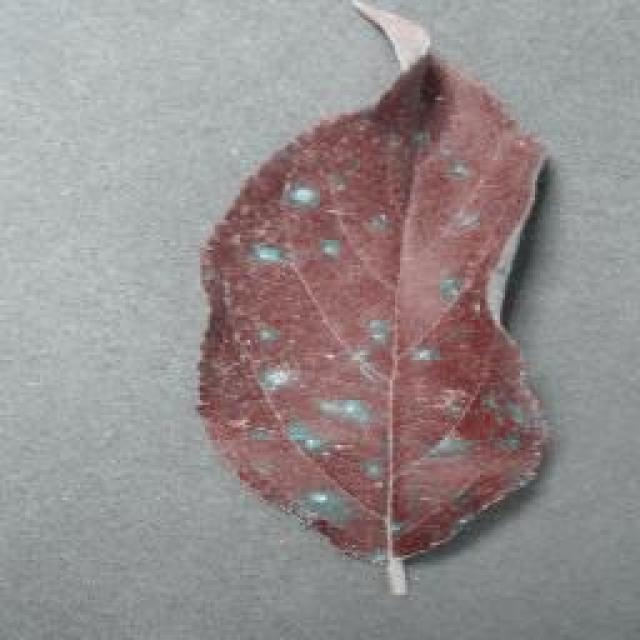apple scab disease: (193, 3, 555, 575)
